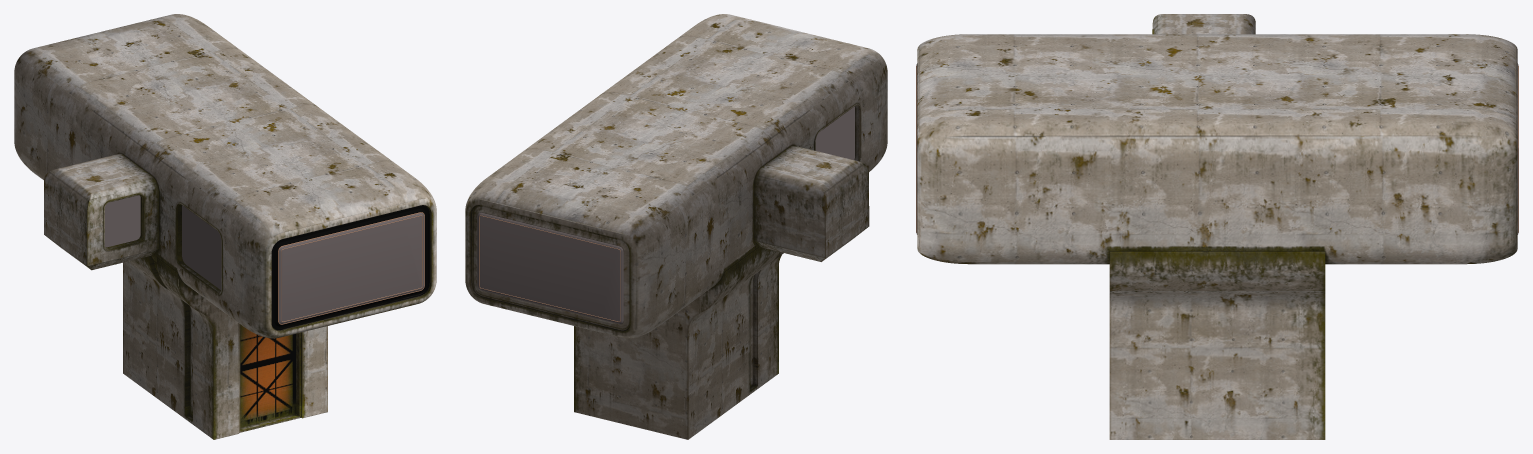
The model's file is sci_fi_building.glb.
3 renders of one model, left to right at view 1: azimuth 30°, elevation 25°; view 2: azimuth 150°, elevation 25°; view 3: azimuth 270°, elevation 25°, orthographic. The views are drawn at different scales.
Visible parts, largest first — view 1: Cube_0, Cube.001_1; view 2: Cube_0, Cube.001_1; view 3: Cube_0.
Boxes of the visible parts, left/top/right/bottom form: Cube_0: left=14, top=14, right=436, bottom=439; Cube.001_1: left=278, top=212, right=424, bottom=324; Cube_0: left=465, top=14, right=887, bottom=439; Cube.001_1: left=479, top=215, right=620, bottom=322; Cube_0: left=916, top=14, right=1518, bottom=439.
Size of the model in its own units: 4.51 by 4.61 by 7.64.
6 materials, 4 textured.
